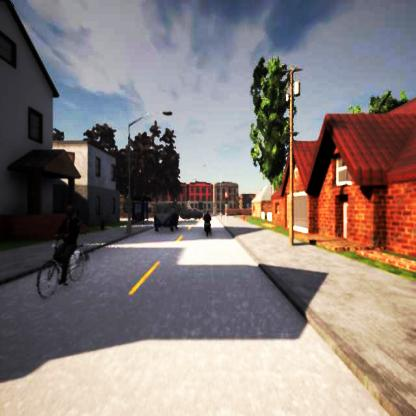bike: (36, 202, 87, 297)
motobike: (202, 211, 212, 236)
